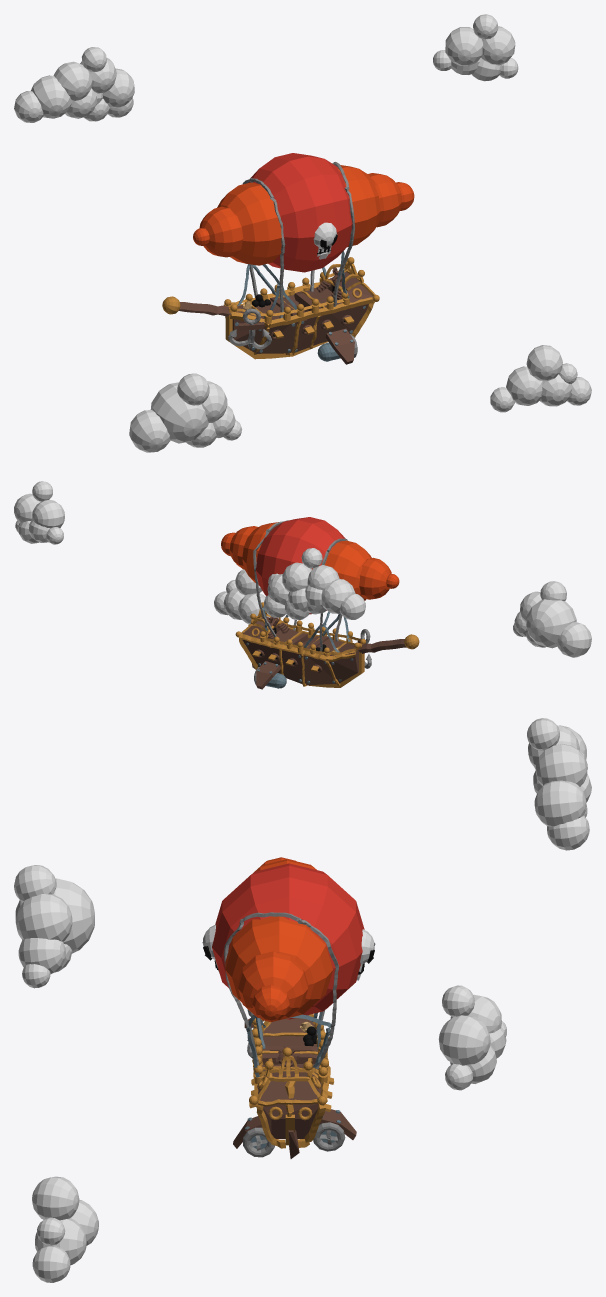
3 renders of one model, top to bottom at view 1: azimuth 30°, elevation 25°; view 2: azimuth 150°, elevation 25°; view 3: azimuth 270°, elevation 25°, orthographic. The views are drawn at different scales.
Visible parts, largest first — view 1: node_MeshObject-2080095680-PolyPaper16, node_MeshObject573576256-PolyPaper21, node_MeshObject496411456-PolyPaper21, node_MeshObject-1854818368-PolyPaper21, node_MeshObject-1054728640-PolyPaper16, node_MeshObject1978457024-PolyPaper19, node_MeshObject-1797790208-PolyPaper16; view 2: node_MeshObject496411456-PolyPaper21, node_MeshObject573576256-PolyPaper21, node_MeshObject-2080095680-PolyPaper16, node_MeshObject-1854818368-PolyPaper21, node_MeshObject-1054728640-PolyPaper16, node_MeshObject-1797790208-PolyPaper16, node_MeshObject1978457024-PolyPaper19; view 3: node_MeshObject573576256-PolyPaper21, node_MeshObject-2080095680-PolyPaper16, node_MeshObject496411456-PolyPaper21, node_MeshObject-1854818368-PolyPaper21, node_MeshObject-1054728640-PolyPaper16, node_MeshObject-1797790208-PolyPaper16, node_MeshObject1978457024-PolyPaper19.
Part boxes in pixels (box(x1,y1,x2,y2)): node_MeshObject-2080095680-PolyPaper16: box(193, 165, 414, 364); node_MeshObject573576256-PolyPaper21: box(223, 153, 591, 412); node_MeshObject496411456-PolyPaper21: box(14, 14, 518, 354); node_MeshObject-1854818368-PolyPaper21: box(129, 373, 572, 452); node_MeshObject-1054728640-PolyPaper16: box(225, 161, 375, 359); node_MeshObject1978457024-PolyPaper19: box(179, 179, 362, 355); node_MeshObject-1797790208-PolyPaper16: box(162, 264, 379, 352); node_MeshObject496411456-PolyPaper21: box(14, 481, 371, 668); node_MeshObject573576256-PolyPaper21: box(214, 517, 358, 689); node_MeshObject-2080095680-PolyPaper16: box(221, 522, 399, 675); node_MeshObject-1854818368-PolyPaper21: box(223, 581, 591, 657); node_MeshObject-1054728640-PolyPaper16: box(241, 520, 364, 687); node_MeshObject-1797790208-PolyPaper16: box(235, 573, 419, 688); node_MeshObject1978457024-PolyPaper19: box(251, 551, 406, 687); node_MeshObject573576256-PolyPaper21: box(32, 863, 364, 1282); node_MeshObject-2080095680-PolyPaper16: box(203, 857, 332, 1157); node_MeshObject496411456-PolyPaper21: box(244, 718, 591, 1105); node_MeshObject-1854818368-PolyPaper21: box(14, 865, 94, 1265); node_MeshObject-1054728640-PolyPaper16: box(202, 912, 375, 1158); node_MeshObject-1797790208-PolyPaper16: box(249, 929, 374, 1112); node_MeshObject1978457024-PolyPaper19: box(224, 920, 374, 1148).
Size of the model in its own units: 1.7 by 0.8717 by 1.22.
